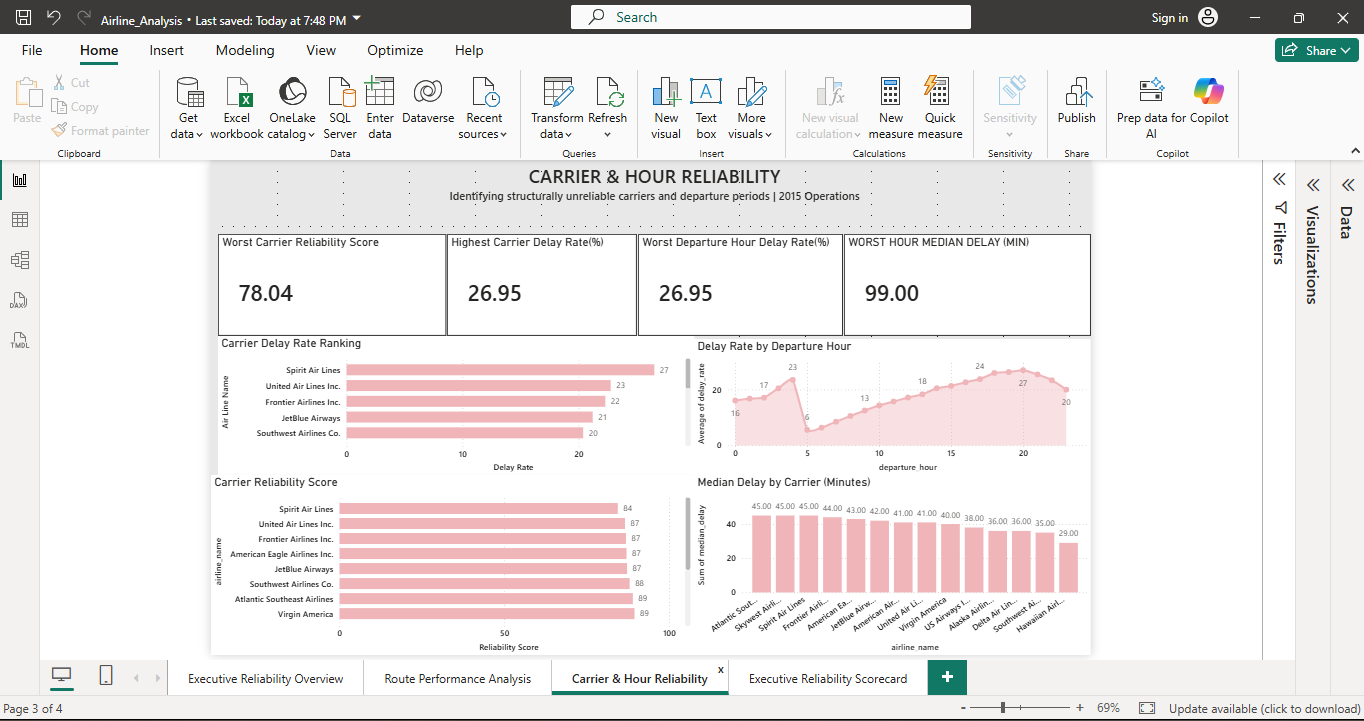

What the dashboard file says about the page in this screenshot:
{"tool":"powerbi","page":{"name":"Carrier & Hour Reliability","canvas":[1280,720],"ordinal":2},"visuals":[{"type":"textbox","box":[10.3,0,1270.2,112.2],"z":0},{"type":"cardVisual","title":"Worst Carrier Reliability Score","fields":{"Data":["Min(airline_analysis final_route_scorecard_named.reliability_score)"]},"box":[10.2,107.6,331.6,148.4],"z":1000},{"type":"cardVisual","title":"Highest Carrier Delay Rate(%)","fields":{"Data":["Max(airline_analysis final_hourly_scorecard_named.delay_rate)"]},"box":[343.3,107.6,276.4,148.4],"z":2000},{"type":"cardVisual","title":"Worst Departure Hour Delay Rate(%)","fields":{"Data":["airline_analysis final_hourly_scorecard_named.Worst Hour Delay Rate"]},"box":[621.1,107.6,298.2,148.4],"z":3000},{"type":"cardVisual","title":"WORST HOUR MEDIAN DELAY (MIN)","fields":{"Data":["Max(airline_analysis final_route_scorecard_named.median_delay)"]},"box":[920.7,107.6,359.3,148.4],"z":4000},{"type":"clusteredBarChart","title":"Carrier Delay Rate Ranking","fields":{"Category":["airline_analysis final_carrier_scorecard_named.airline_name"],"Y":["Sum(airline_analysis final_carrier_scorecard_named.delay_rate)"]},"box":[10.3,255.9,692.7,202.3],"z":5000},{"type":"lineChart","title":"Delay Rate by Departure Hour","fields":{"Category":["airline_analysis final_hourly_scorecard_named.departure_hour"],"Y":["Avg(airline_analysis final_hourly_scorecard_named.delay_rate)"]},"box":[702.5,260.4,577.5,197.8],"z":6000},{"type":"clusteredBarChart","title":"Carrier Reliability Score","fields":{"Category":["airline_analysis final_carrier_scorecard_named.airline_name"],"Y":["Sum(airline_analysis final_carrier_scorecard_named.reliability_score)"]},"box":[0,458.2,702.5,261.8],"z":7000},{"type":"clusteredColumnChart","title":"Median Delay by Carrier (Minutes)","fields":{"Category":["airline_analysis final_carrier_scorecard_named.airline_name"],"Y":["Sum(airline_analysis final_carrier_scorecard_named.median_delay)"]},"box":[702.5,458.2,577.5,261.8],"z":8000}]}

Visuals, with their boxes on the page's 1280x720 design canvas (x1, y1, x2, y2). These are canvas units, not pixel positions in the 1364x721 screenshot, which may show the page scaled, cropped or inside an application window:
textbox: locate(10, 0, 1280, 112)
"Worst Carrier Reliability Score" cardVisual: locate(10, 108, 342, 256)
"Highest Carrier Delay Rate(%)" cardVisual: locate(343, 108, 620, 256)
"Worst Departure Hour Delay Rate(%)" cardVisual: locate(621, 108, 919, 256)
"WORST HOUR MEDIAN DELAY (MIN)" cardVisual: locate(921, 108, 1280, 256)
"Carrier Delay Rate Ranking" clusteredBarChart: locate(10, 256, 703, 458)
"Delay Rate by Departure Hour" lineChart: locate(702, 260, 1280, 458)
"Carrier Reliability Score" clusteredBarChart: locate(0, 458, 702, 720)
"Median Delay by Carrier (Minutes)" clusteredColumnChart: locate(702, 458, 1280, 720)
